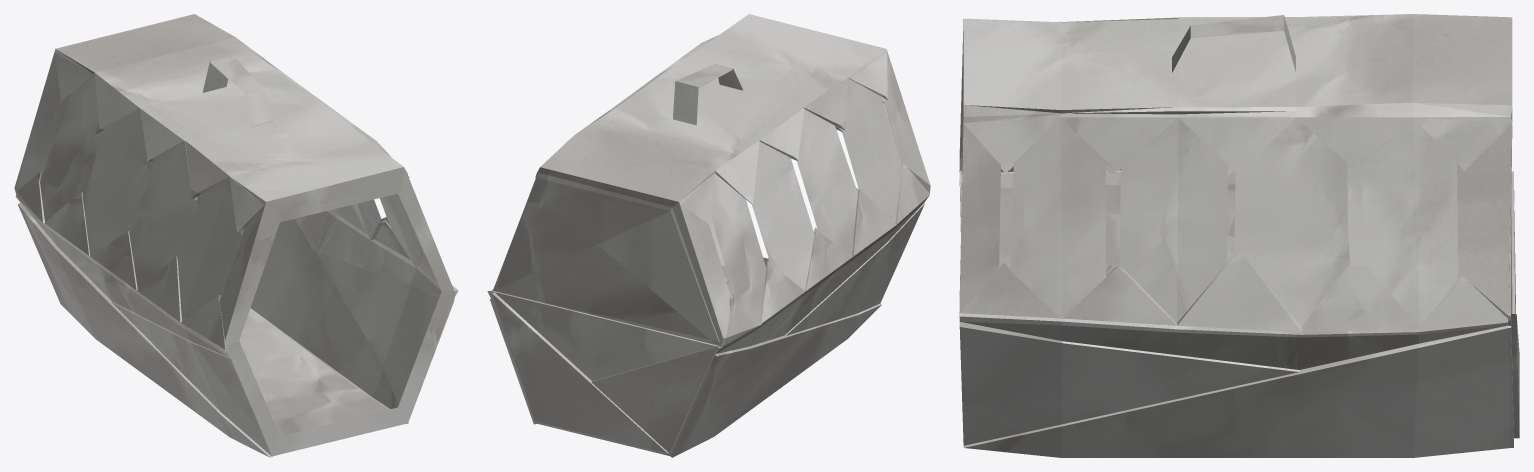
The model's file is Transportin.FBX.
3 views of the same model, side by side, from view 1: azimuth 30°, elevation 25°; view 2: azimuth 150°, elevation 25°; view 3: azimuth 270°, elevation 25° (orthographic). The views are drawn at different scales.
Visible parts, largest first — view 1: Cylinder002; view 2: Cylinder002; view 3: Cylinder002.
Boxes of the visible parts, <box> form: Cylinder002: <box>14,14,458,457</box>; Cylinder002: <box>487,14,930,457</box>; Cylinder002: <box>959,14,1519,457</box>.
Bounding box in the file's own units: 30.96 × 46.5 × 35.9.
